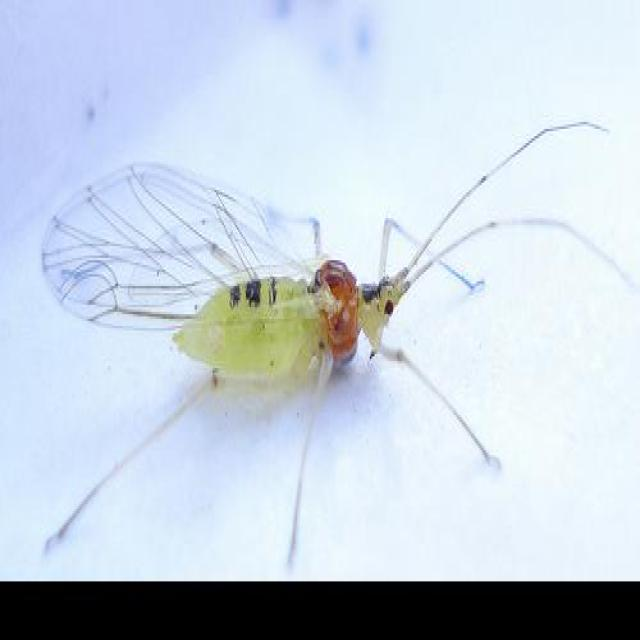Aphids: (78, 182, 516, 512)
